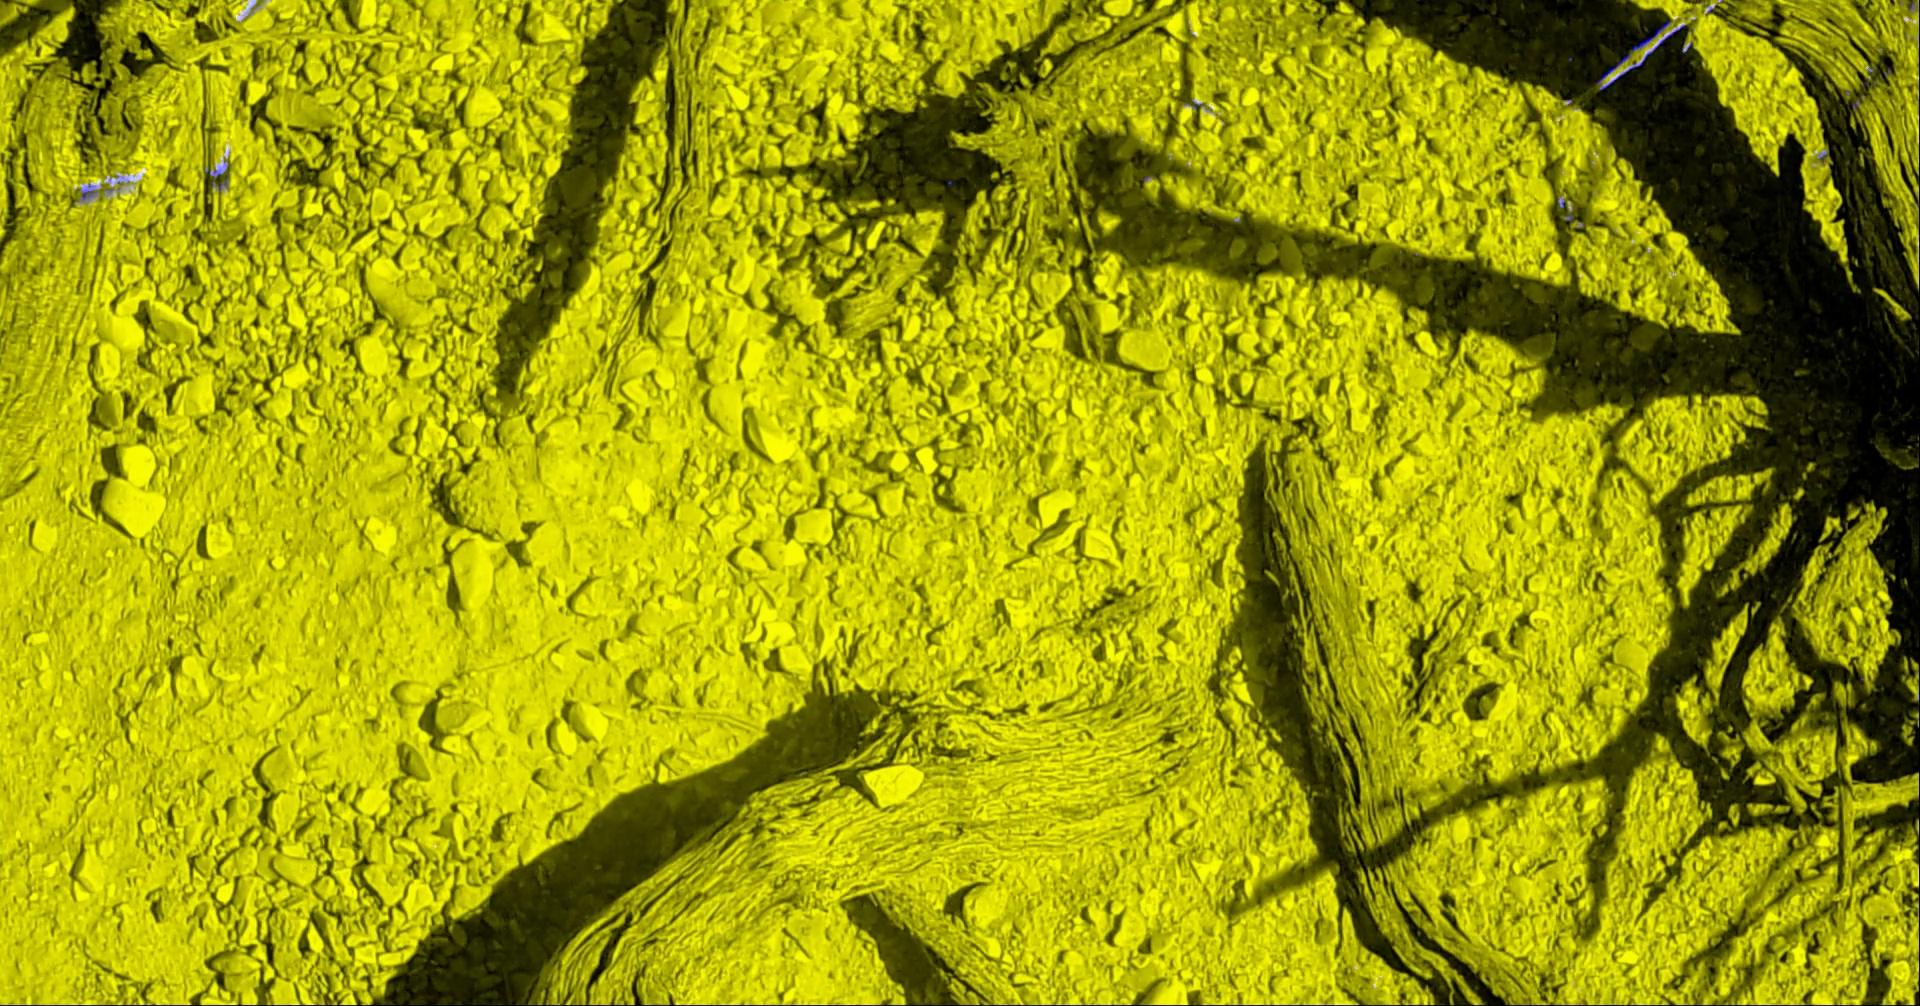ant: (1597, 24, 1688, 90), (1633, 19, 1672, 51), (207, 163, 230, 191)
